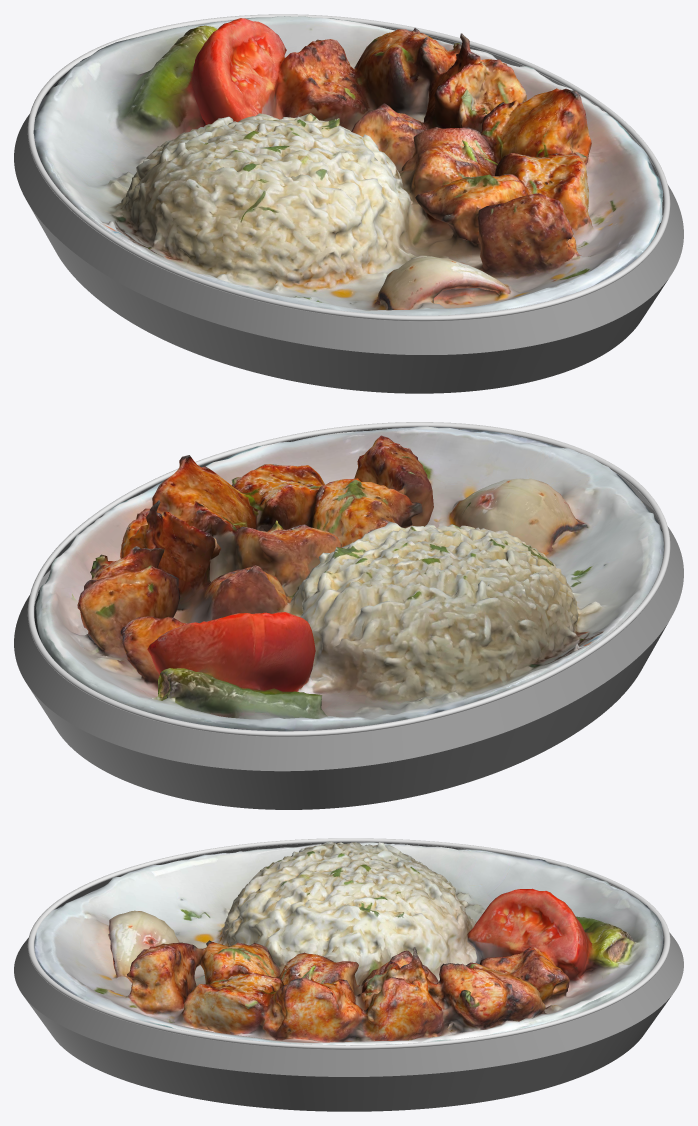
The model's file is chicken-shish.glb.
The picture shows the model from 3 angles, top to bottom: view 1: azimuth 30°, elevation 25°; view 2: azimuth 150°, elevation 25°; view 3: azimuth 270°, elevation 25°; orthographic projection. The views are drawn at different scales.
Parts seen in each view (by area): view 1: baked_mesh, BézierCircle.001, BézierCircle; view 2: baked_mesh, BézierCircle.001, BézierCircle; view 3: baked_mesh, BézierCircle.001, BézierCircle.
Boxes of the visible parts, x1,y1,x2,y2 form: baked_mesh: (33, 16, 662, 315); BézierCircle.001: (14, 27, 683, 393); BézierCircle: (27, 14, 670, 321); baked_mesh: (34, 426, 663, 731); BézierCircle.001: (14, 428, 683, 809); BézierCircle: (27, 422, 670, 736); baked_mesh: (34, 841, 663, 1045); BézierCircle.001: (14, 842, 683, 1111); BézierCircle: (27, 838, 670, 1049).
Bounding box in the file's own units: 0.897 × 0.2455 × 1.17.
Materials: 2 (1 with a texture image).
